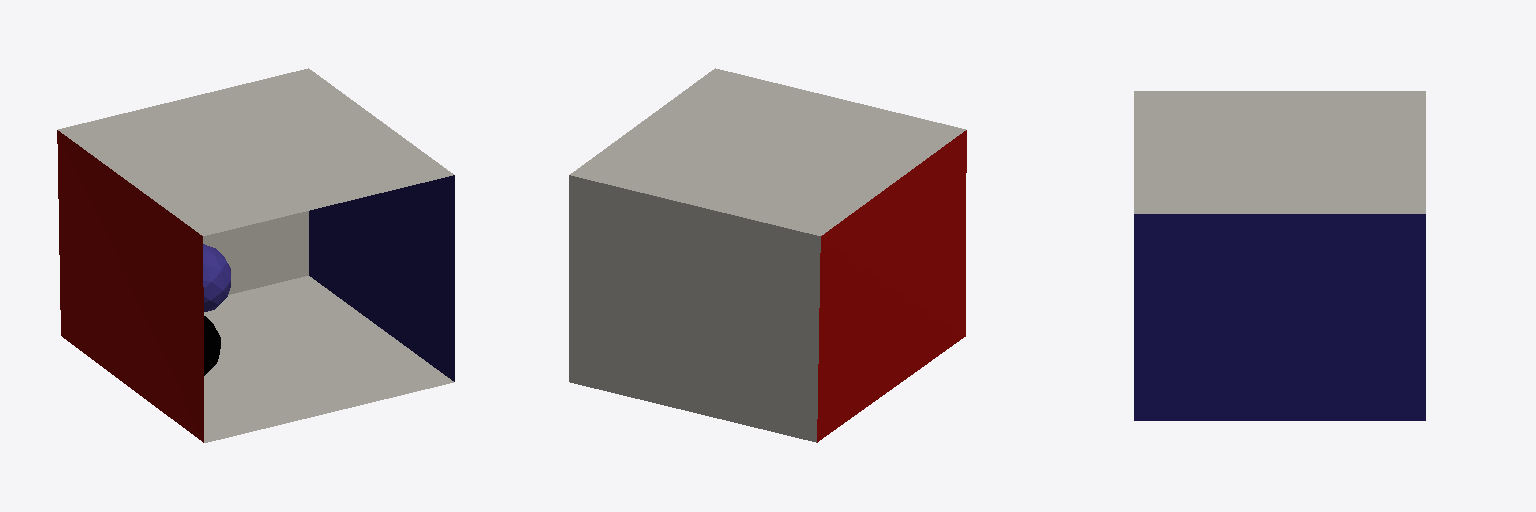
Rendered from CornellBox-Sphere-870.obj.
3 renders of one model, left to right at view 1: azimuth 30°, elevation 25°; view 2: azimuth 150°, elevation 25°; view 3: azimuth 270°, elevation 25°, orthographic.
Parts seen in each view (by area): view 1: ceiling, leftWall, floor, rightWall, backWall, leftSphere, rightSphere; view 2: backWall, ceiling, leftWall; view 3: rightWall, ceiling.
Part boxes in pixels (x1,y1,x2,y2): ceiling: (58, 68, 453, 235); leftWall: (57, 130, 203, 442); floor: (204, 276, 453, 442); rightWall: (309, 175, 454, 381); backWall: (203, 211, 308, 294); leftSphere: (203, 244, 230, 311); rightSphere: (204, 316, 220, 375); backWall: (569, 175, 820, 442); ceiling: (570, 68, 965, 235); leftWall: (817, 130, 966, 442); rightWall: (1134, 214, 1425, 420); ceiling: (1134, 91, 1425, 213).
Size of the model in its own units: 2.02 by 1.59 by 2.03.